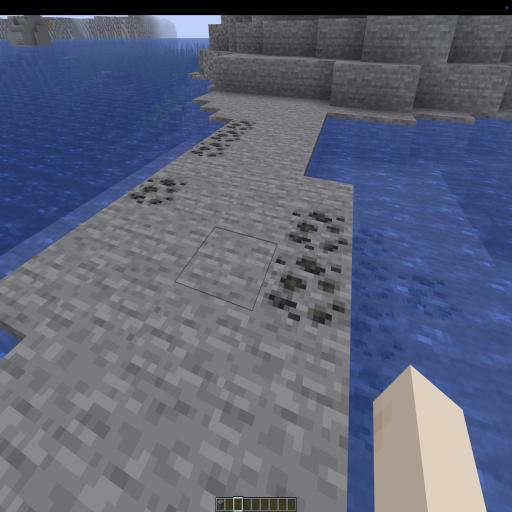coal ore: (261, 196, 459, 346), (197, 112, 253, 158), (127, 172, 189, 211)
